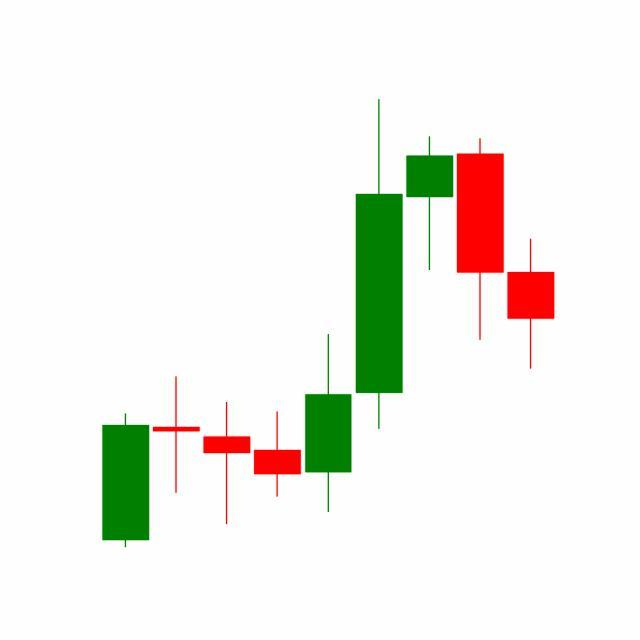Hikkake Pattern: (252, 100, 506, 518)
